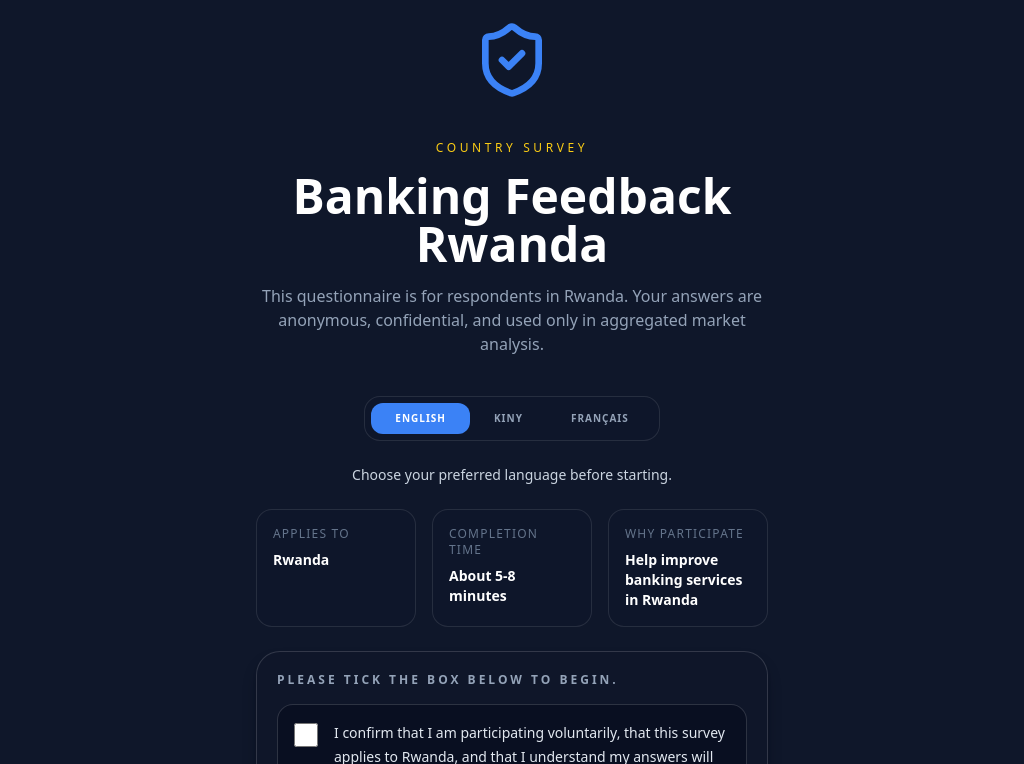
Test case: survey country routes › hydrates runtime screening logic even when the active questionnaire comes from Firestore without functions
What coordinates should you click on to do the following:
click the checkbox
I would click on:
 (306, 735)
Its box is x1=294 y1=723 x2=318 y2=747.
(page scrolled)
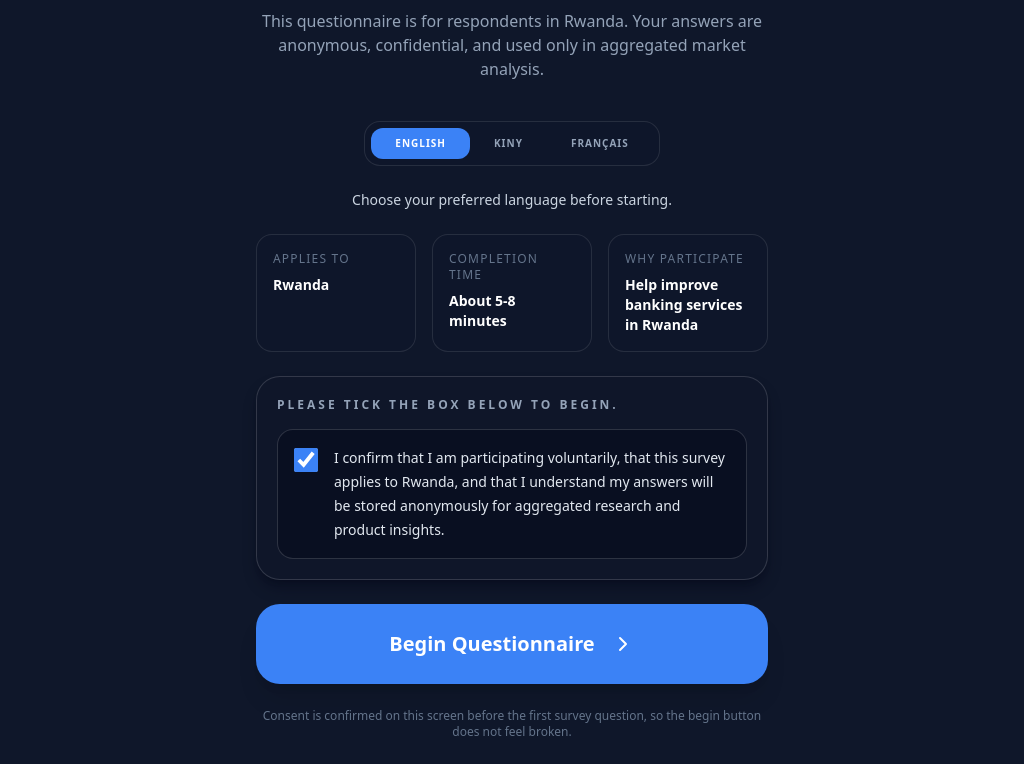
What coordinates should you click on to do the following:
click the button "Begin Questionnaire"
I would click on:
 (512, 644)
Its box is x1=256 y1=604 x2=768 y2=684.
(page scrolled)
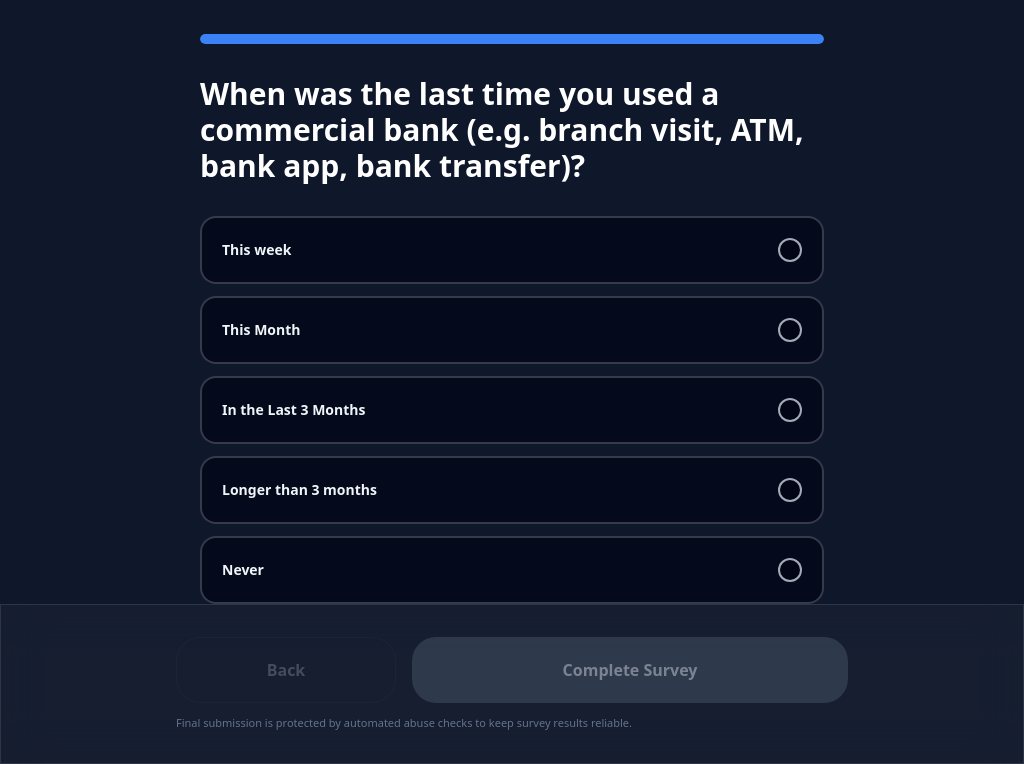
Expected: the heading "When was the last time you used a commercial bank" is shown, x1=200 y1=73 x2=804 y2=186
What coordinates should you click on to do the following:
click the button "This week"
I would click on:
 (257, 250)
Its box is x1=200 y1=216 x2=824 y2=284.
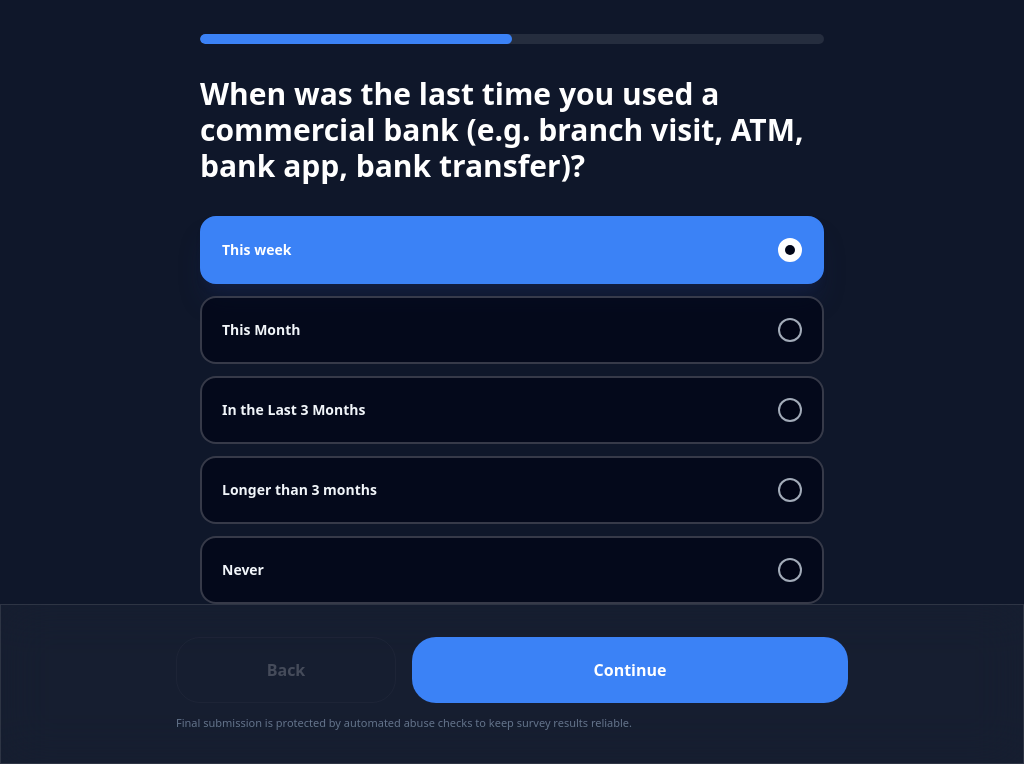
What coordinates should you click on to do the following:
click the button "Continue"
I would click on:
 (630, 670)
Its box is x1=412 y1=636 x2=848 y2=702.
(page scrolled)
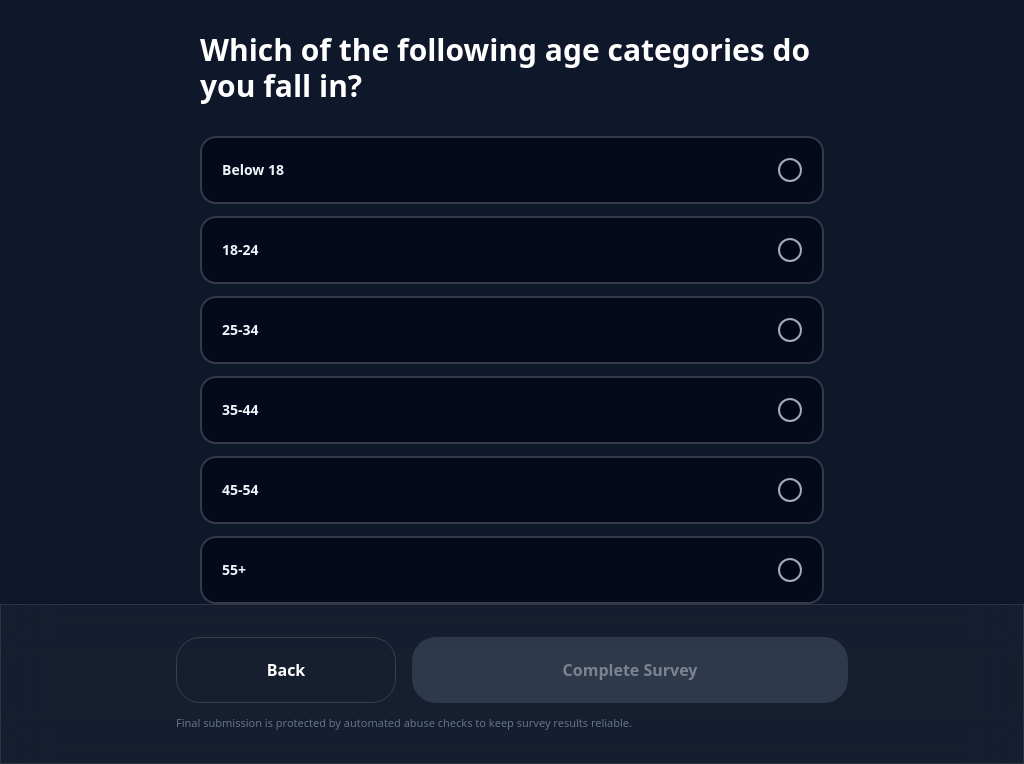
Expected: the heading "Which of the following age categories do you fall in?" is shown, x1=200 y1=32 x2=824 y2=104
